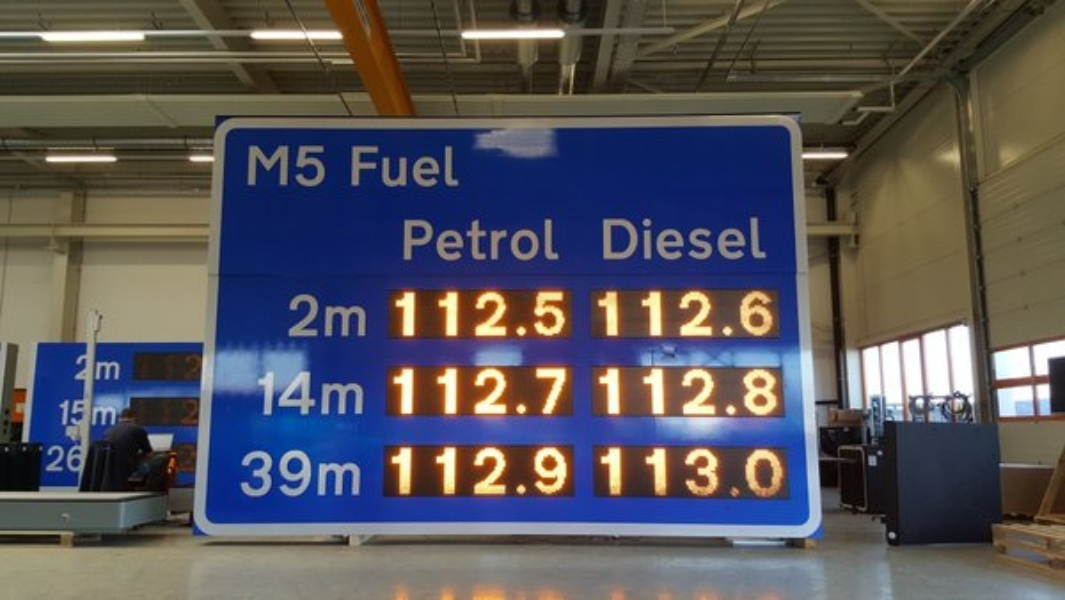text: (609, 444, 624, 498), (625, 444, 640, 498), (641, 444, 656, 498), (657, 444, 672, 498), (673, 444, 688, 498), (689, 444, 704, 498), (705, 444, 720, 498), (721, 444, 736, 498), (737, 444, 752, 498), (753, 444, 768, 498), (769, 444, 784, 498), (609, 288, 624, 338), (625, 288, 640, 338), (641, 288, 656, 338), (657, 288, 672, 338), (673, 288, 688, 338), (689, 288, 704, 338), (705, 288, 720, 338), (721, 288, 736, 338), (737, 288, 752, 338), (753, 288, 768, 338), (401, 366, 416, 416), (417, 366, 432, 416), (433, 366, 448, 416), (449, 366, 464, 416), (465, 366, 480, 416), (481, 366, 496, 416), (497, 366, 512, 416), (513, 366, 528, 416), (529, 366, 544, 416), (545, 366, 560, 416), (609, 366, 624, 416), (625, 366, 640, 416), (641, 366, 656, 416), (657, 366, 672, 416), (673, 366, 688, 416), (689, 366, 704, 416), (705, 366, 720, 416), (721, 366, 736, 416), (737, 366, 752, 416), (753, 366, 768, 416), (401, 446, 416, 496), (417, 446, 432, 496), (433, 446, 448, 496), (449, 446, 464, 496), (465, 446, 480, 496), (481, 446, 496, 496), (497, 446, 512, 496), (513, 446, 528, 496), (529, 446, 544, 496), (545, 446, 560, 496), (753, 215, 769, 261), (257, 370, 272, 418), (273, 370, 288, 418), (289, 370, 304, 418), (305, 370, 320, 418), (321, 370, 336, 418), (337, 370, 352, 418), (241, 450, 256, 498), (257, 450, 272, 498), (273, 450, 288, 498), (289, 450, 304, 498), (305, 450, 320, 498), (321, 450, 336, 498), (337, 450, 352, 498), (401, 290, 416, 338), (417, 290, 432, 338), (433, 290, 448, 338), (449, 290, 464, 338), (465, 290, 480, 338), (481, 290, 496, 338), (497, 290, 512, 338), (513, 290, 528, 338), (529, 290, 544, 338), (545, 290, 560, 338), (353, 143, 368, 189), (369, 143, 384, 189), (385, 143, 400, 189), (401, 143, 416, 189), (417, 143, 432, 189), (433, 143, 448, 189), (609, 215, 624, 261), (625, 215, 640, 261), (641, 215, 656, 261), (657, 215, 672, 261), (673, 215, 688, 261), (689, 215, 704, 261), (705, 215, 720, 261), (721, 215, 736, 261), (737, 215, 752, 261), (257, 144, 272, 189), (273, 144, 288, 189), (289, 144, 304, 189), (305, 144, 320, 189), (289, 293, 304, 338), (305, 293, 320, 338), (321, 293, 336, 338), (337, 293, 352, 338), (353, 293, 368, 338), (417, 219, 432, 261), (433, 219, 448, 261), (449, 219, 464, 261), (465, 219, 480, 261), (481, 219, 496, 261), (497, 219, 512, 261), (513, 219, 528, 261), (529, 219, 544, 261), (545, 219, 560, 261), (597, 444, 608, 498), (402, 219, 416, 261), (597, 288, 608, 338), (597, 366, 608, 416), (769, 366, 780, 416), (389, 446, 400, 496), (353, 370, 364, 418), (353, 450, 364, 498), (449, 143, 460, 189), (65, 398, 80, 428), (145, 352, 160, 382), (161, 352, 176, 382), (49, 444, 64, 473), (65, 444, 80, 473), (247, 144, 256, 189), (145, 398, 160, 425), (161, 398, 176, 425), (561, 366, 569, 416), (561, 446, 569, 496), (180, 352, 192, 384), (600, 215, 608, 261), (180, 398, 192, 427), (97, 359, 112, 382), (97, 405, 112, 428), (393, 290, 400, 338), (132, 398, 144, 425), (193, 398, 203, 427), (561, 290, 567, 338), (321, 144, 327, 189), (193, 352, 201, 384), (769, 288, 774, 338), (395, 366, 400, 416), (113, 359, 123, 382), (81, 354, 89, 382), (57, 398, 64, 428), (137, 352, 144, 382), (73, 354, 80, 382), (81, 398, 86, 428), (81, 444, 86, 473), (113, 405, 119, 428), (91, 405, 96, 428), (785, 444, 787, 498), (350, 143, 352, 189), (286, 293, 288, 338), (45, 444, 48, 473), (177, 352, 178, 382), (177, 398, 178, 425), (95, 359, 96, 382)
